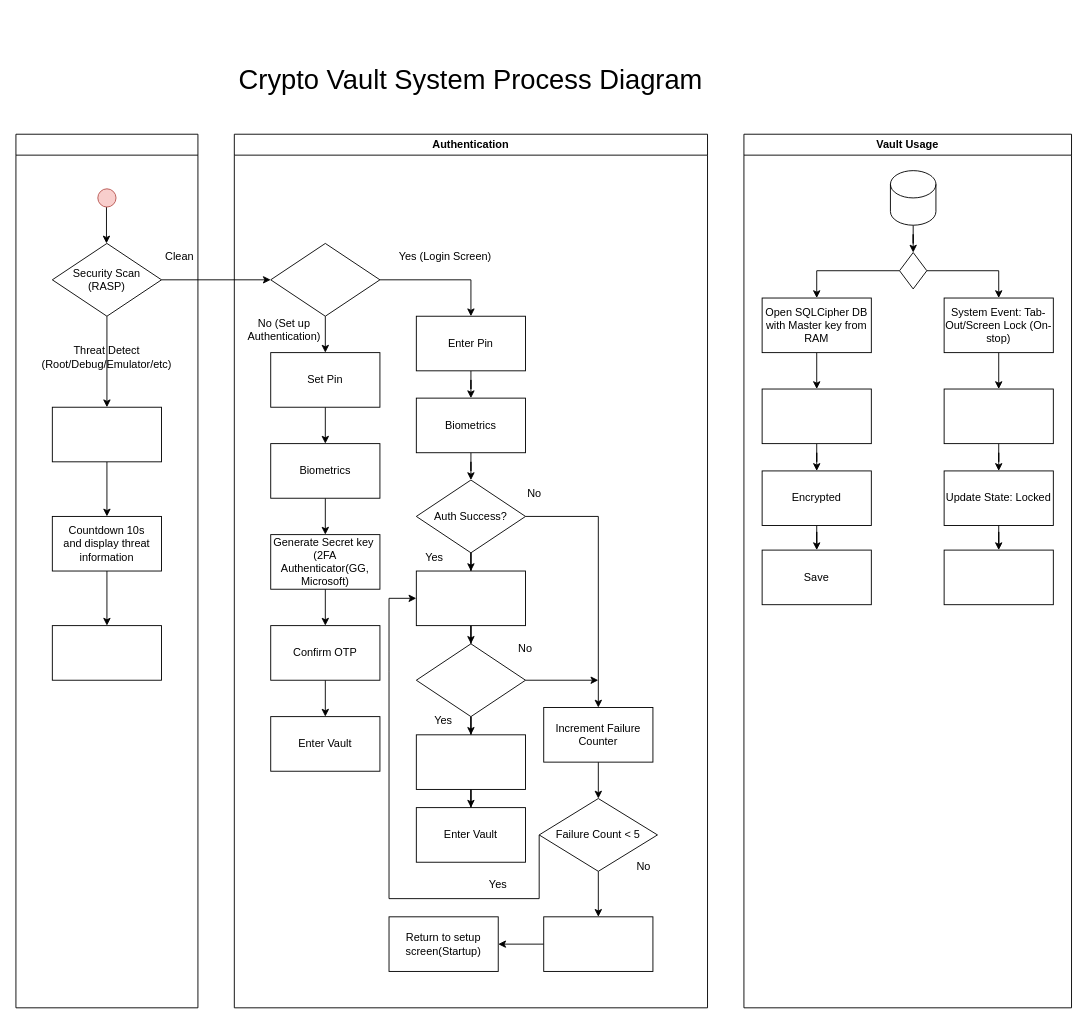
This 1087x1024 diagram has some shape labels left out. The box of each missing label's shape, as (x1, y1, x2, y2) in pixels:
Activate Self-Destruct (Wipe Data): (543, 916, 653, 971)
Delete Master Key from RAM immediately: (943, 388, 1053, 444)
Exit App: (51, 625, 162, 680)
OTP matches?: (415, 643, 526, 717)
Perform Notes CRUD (Create, Read, Update, Delete): (761, 388, 871, 444)
Pin/Fingerprint setup?: (270, 243, 380, 316)
Report error to Supabase: (51, 406, 162, 462)
Request OTP: (415, 570, 526, 626)
Reset Failure Counter: (415, 734, 526, 789)
Return to Login Screen: (943, 549, 1053, 605)
Startup: (15, 133, 198, 1008)
